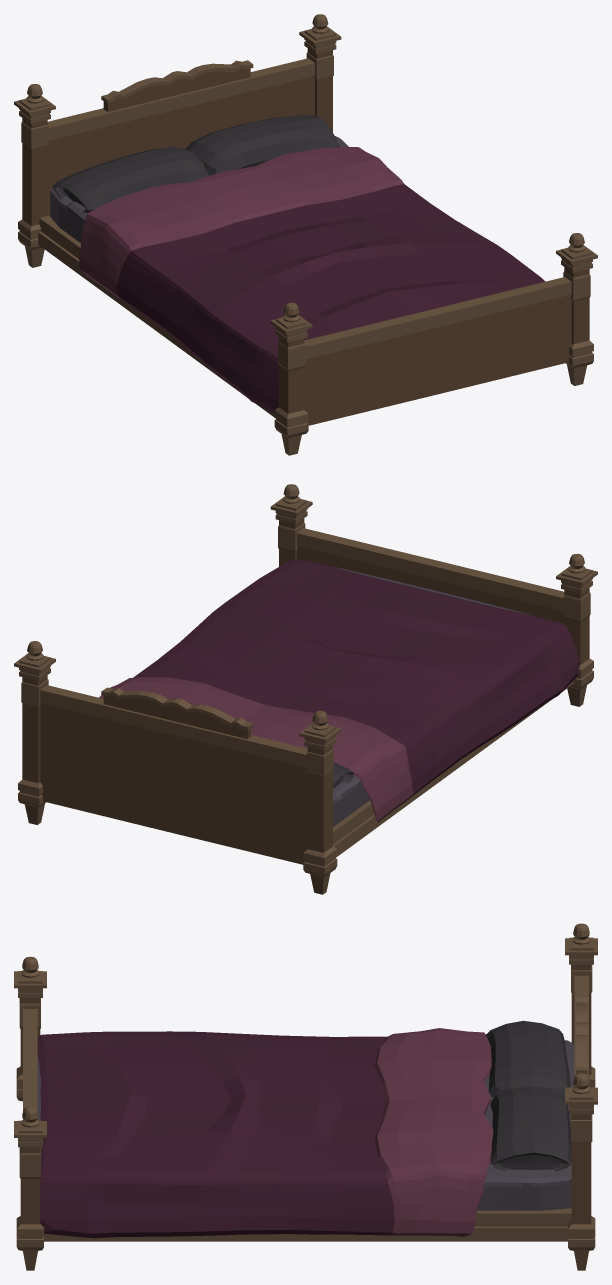
Rendered from beddouble.glb.
3 views of the same model, one above another, from view 1: azimuth 30°, elevation 25°; view 2: azimuth 150°, elevation 25°; view 3: azimuth 270°, elevation 25° (orthographic). The views are drawn at different scales.
Parts seen in each view (by area): view 1: Pillow2; view 2: Pillow2; view 3: Pillow2.
Boxes of the visible parts, bbox=[...] form: Pillow2: bbox=[14, 14, 597, 455]; Pillow2: bbox=[14, 484, 597, 894]; Pillow2: bbox=[14, 923, 597, 1270].
Size of the model in its own units: 2.83 by 1.56 by 4.26.
1 material, 1 textured.
